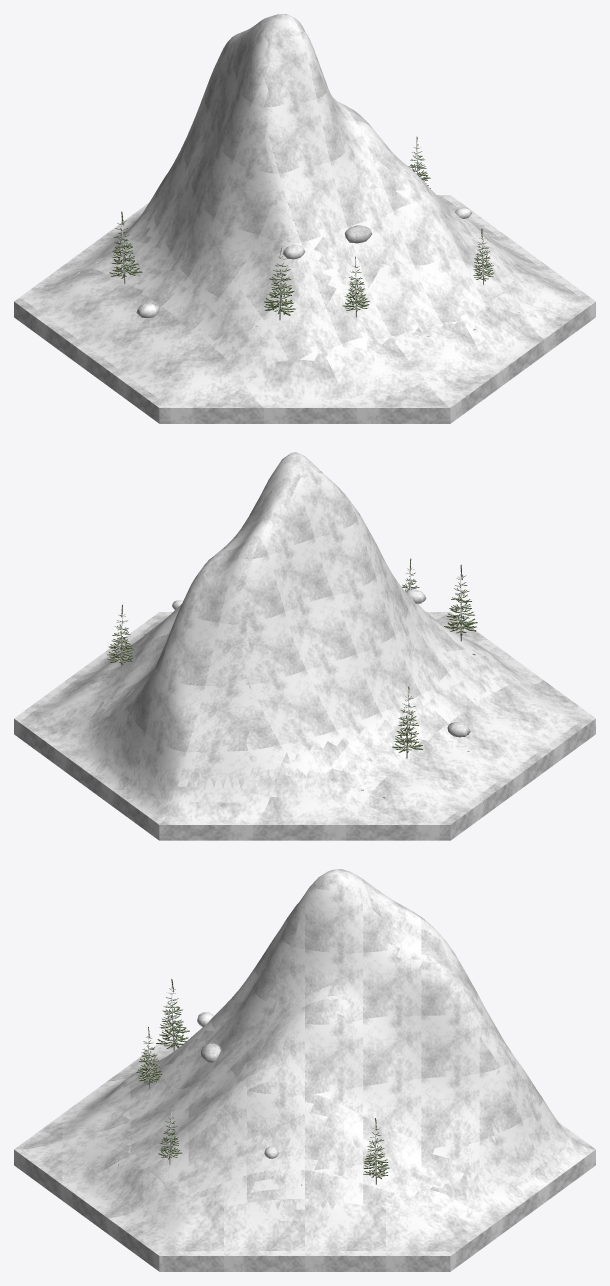
Rendered from montana.glb.
3 views of the same model, one above another, from view 1: azimuth 30°, elevation 25°; view 2: azimuth 150°, elevation 25°; view 3: azimuth 270°, elevation 25° (orthographic).
Visible parts, largest first — view 1: montana.004; view 2: montana.004; view 3: montana.004.
Boxes of the visible parts, x1,y1,x2,y2 form: montana.004: (14,14,595,423); montana.004: (14,452,595,840); montana.004: (14,869,595,1271).
Size of the model in its own units: 3.46 by 2.21 by 4.
Materials: 4 (4 with a texture image).
